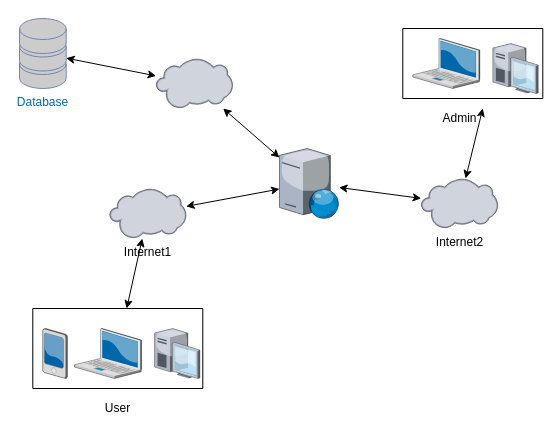
Image size: 560x435. Some labels were removed from this diagram. Each missing label, with the centre of its shape:
"Application server" goes at (308,183).
"Internet3" goes at (194,83).
